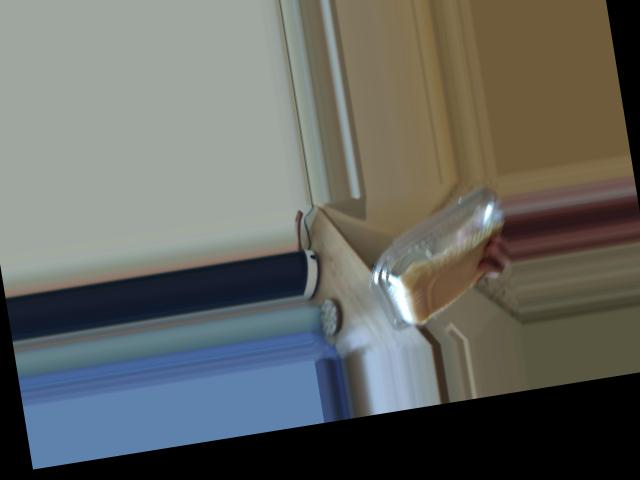cheese: (376, 213, 467, 314)
